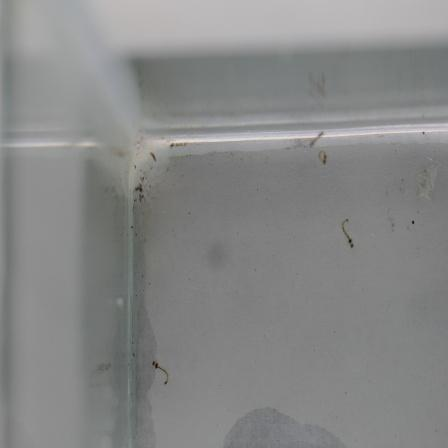Jentik-Nyamuk: (337, 214, 359, 252), (149, 358, 173, 392)
